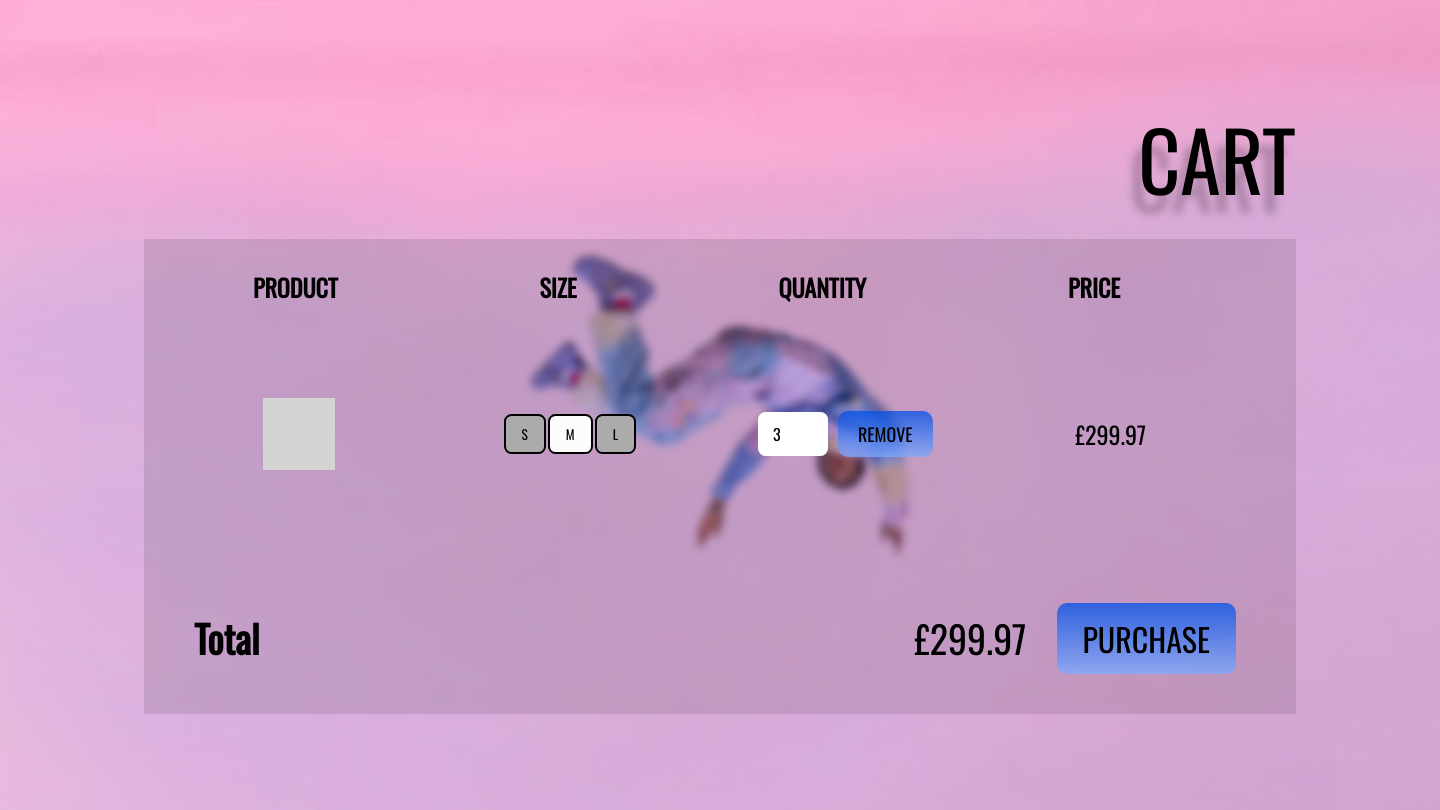
Test: <CartSection /> › Should produce a GraphQL error when trying to remove from cart
Click the button with test id "removeFromCart-11" at point(885, 434), box [838,410,932,456]
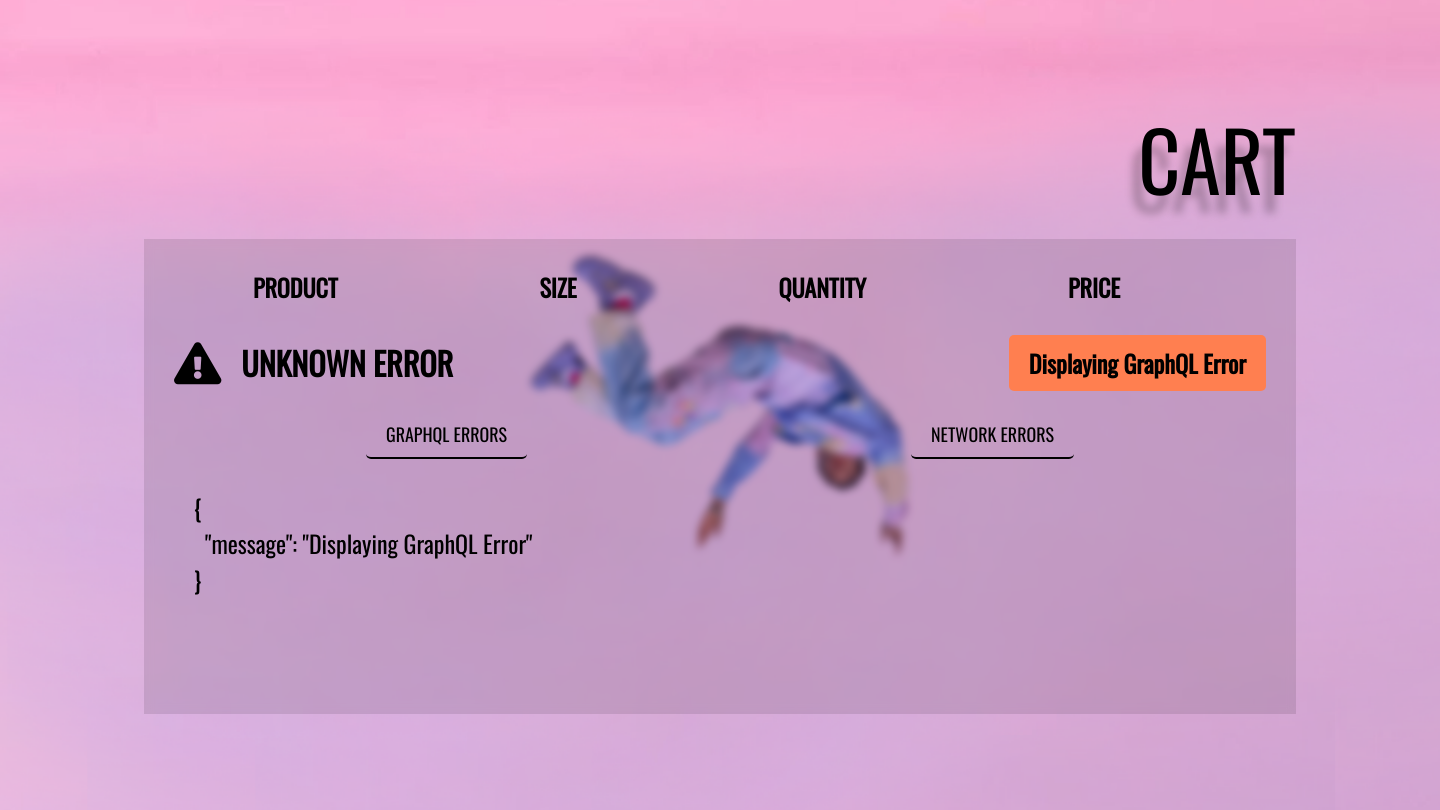
Expected: the heading "UNKNOWN ERROR" is shown, [241,339,453,386]
Expected: the number of headings "Displaying GraphQL Error" is 2, [1009,334,1266,390]; [194,488,532,596]
